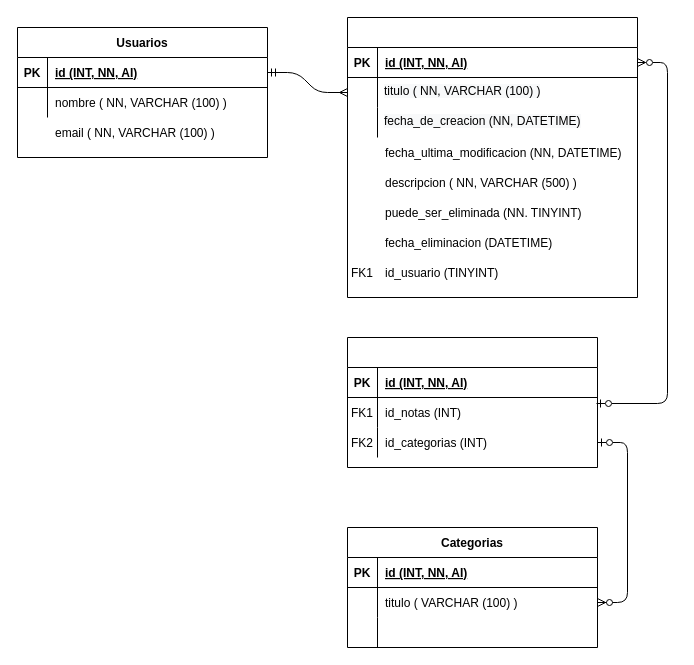
The diagram is 694 pixels wide and 665 high, and some of its shapes have lost their labels. Here are the shapes that lost their labels. From the top down, the box of each, then its label:
(346, 16, 638, 298): Notas
(346, 336, 598, 468): notas_categorias
